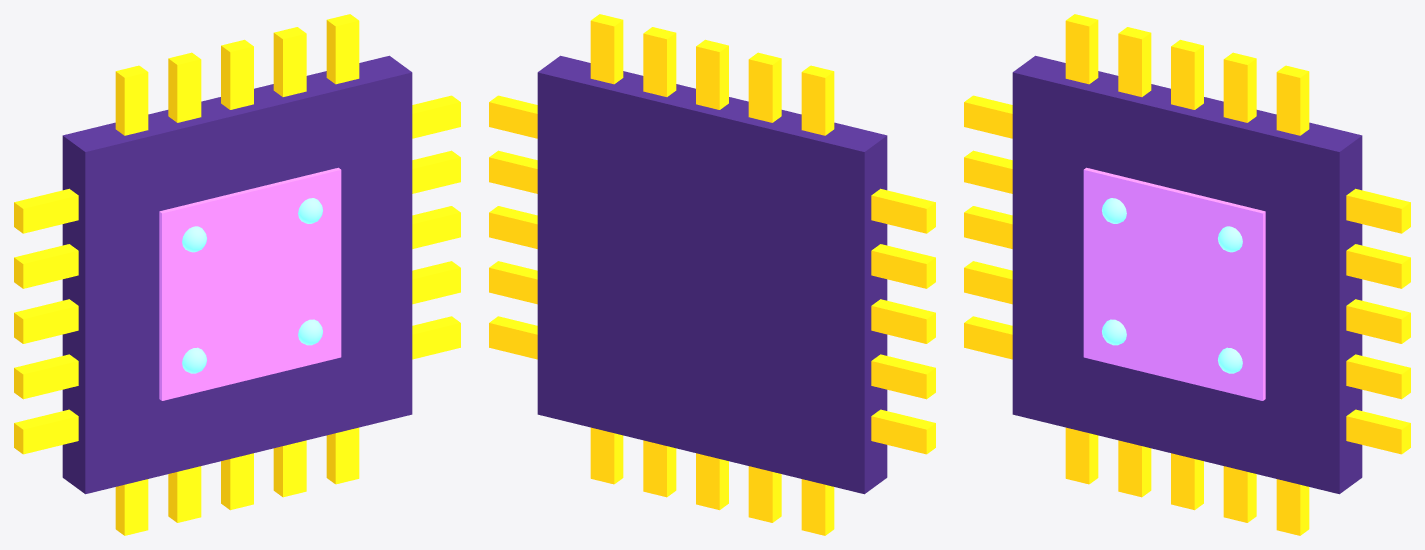
File: chip.glb
The picture shows the model from 3 angles, left to right: view 1: azimuth 30°, elevation 25°; view 2: azimuth 150°, elevation 25°; view 3: azimuth 330°, elevation 25°; orthographic projection.
Parts seen in each view (by area): view 1: shell, pins, core, nodes; view 2: shell, pins; view 3: shell, pins, core, nodes.
Part boxes in pixels (x1=…): shell: x1=62, y1=55, x2=412, y2=494; pins: x1=14, y1=14, x2=460, y2=535; core: x1=159, y1=167, x2=341, y2=400; nodes: x1=182, y1=198, x2=322, y2=373; shell: x1=537, y1=55, x2=887, y2=494; pins: x1=489, y1=14, x2=935, y2=535; shell: x1=1012, y1=55, x2=1362, y2=494; pins: x1=964, y1=14, x2=1410, y2=535; core: x1=1083, y1=167, x2=1265, y2=400; nodes: x1=1102, y1=198, x2=1242, y2=373.
Size of the model in its own units: 1.66 by 1.66 by 0.212.
